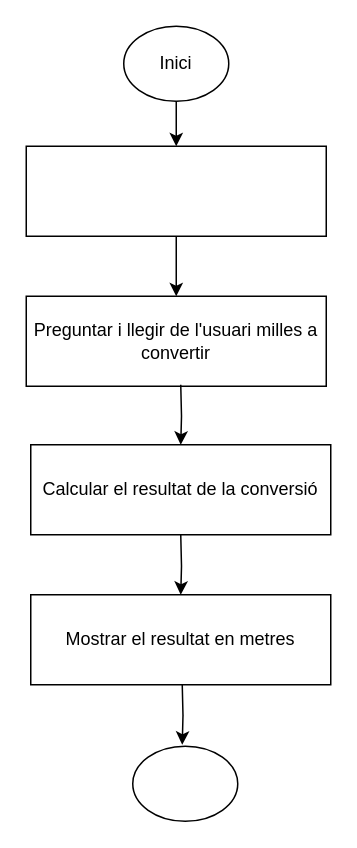
Image size: 357x848. Some labels were removed from this diagram. Each missing label, with the centre of its shape:
Definir factor conversió: MILLES_A_METRES=1852: point 175,190
Fi: point 184,783
